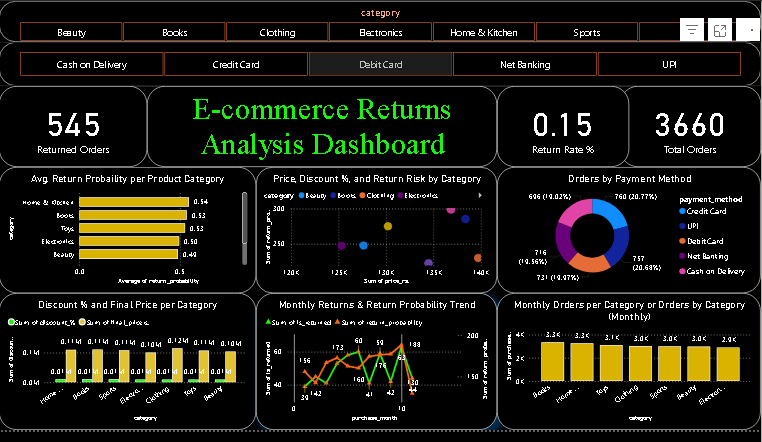

Layout of this report page (visuals, bound fields, positions):
{"tool":"powerbi","page":{"name":"Page 1","canvas":[1280,720],"ordinal":0},"visuals":[{"type":"card","fields":{"Values":["ecommerce_data_with_return_scores.Returned Orders"]},"box":[0,142.8,248.6,136.1],"z":0},{"type":"card","fields":{"Values":["ecommerce_data_with_return_scores.Total Orders"]},"box":[1043.1,142.8,236.9,136.1],"z":1},{"type":"card","fields":{"Values":["ecommerce_data_with_return_scores.Return Rate %"]},"box":[836.5,142.8,221.7,136.1],"z":3},{"type":"clusteredBarChart","title":"Avg. Return Probaility per Product Category","fields":{"Category":["ecommerce_data_with_return_scores.category"],"Y":["Avg(ecommerce_data_with_return_scores.return_probability)"]},"box":[0,278.8,431.7,211.7],"z":4},{"type":"donutChart","title":"Orders by Payment Method","fields":{"Y":["ecommerce_data_with_return_scores.Total Orders"],"Category":["ecommerce_data_with_return_scores.payment_method"]},"box":[836.5,278.8,443.5,211.7],"z":5},{"type":"slicer","title":"category","fields":{"Values":["ecommerce_data_with_return_scores.category"]},"box":[0,0,1280,68.9],"z":6},{"type":"clusteredColumnChart","title":"Discount % and Final Price per Category","fields":{"Category":["ecommerce_data_with_return_scores.category"],"Y":["Sum(ecommerce_data_with_return_scores.discount_%)","Sum(ecommerce_data_with_return_scores.final_pricers.)"]},"box":[0,490.5,431.7,230.1],"z":7},{"type":"lineChart","title":"Monthly Returns & Return Probability Trend","fields":{"Category":["ecommerce_data_with_return_scores.purchase_month"],"Y":["Sum(ecommerce_data_with_return_scores.is_returned)"],"Y2":["Sum(ecommerce_data_with_return_scores.return_probability)"]},"box":[431.7,490.5,404.8,230.1],"z":8},{"type":"clusteredColumnChart","title":"Monthly Orders per Category or Orders by Category (Monthly)","fields":{"Category":["ecommerce_data_with_return_scores.category"],"Y":["Sum(ecommerce_data_with_return_scores.purchase_month)"]},"box":[836.5,490.5,443.5,230.1],"z":9},{"type":"scatterChart","title":"Price, Discount %, and Return Risk by Category","fields":{"X":["Sum(ecommerce_data_with_return_scores.price_rs.)"],"Y":["Sum(ecommerce_data_with_return_scores.return_probability)"],"Size":["Sum(ecommerce_data_with_return_scores.discount_%)"],"Series":["ecommerce_data_with_return_scores.category"]},"box":[431.7,278.8,404.8,211.7],"z":10},{"type":"textbox","title":"E-commerce Returns Analysis Dashboard ","box":[248.6,142.8,587.9,136.1],"z":11},{"type":"slicer","fields":{"Values":["ecommerce_data_with_return_scores.payment_method"]},"box":[0,68.9,1280,73.9],"z":12}]}

Visuals, with their boxes in screenshot pixels (x1, y1, x2, y2):
card - ecommerce_data_with_return_scores.Returned Orders: rect(6, 86, 152, 166)
card - ecommerce_data_with_return_scores.Total Orders: rect(618, 86, 757, 166)
card - ecommerce_data_with_return_scores.Return Rate %: rect(497, 86, 627, 166)
"Avg. Return Probaility per Product Category" clusteredBarChart: rect(6, 166, 259, 290)
"Orders by Payment Method" donutChart: rect(497, 166, 757, 290)
"category" slicer: rect(6, 2, 757, 42)
"Discount % and Final Price per Category" clusteredColumnChart: rect(6, 290, 259, 425)
"Monthly Returns & Return Probability Trend" lineChart: rect(259, 290, 497, 425)
"Monthly Orders per Category or Orders by Category (Monthly)" clusteredColumnChart: rect(497, 290, 757, 425)
"Price, Discount %, and Return Risk by Category" scatterChart: rect(259, 166, 497, 290)
"E-commerce Returns Analysis Dashboard " textbox: rect(152, 86, 497, 166)
slicer - ecommerce_data_with_return_scores.payment_method: rect(6, 42, 757, 86)
